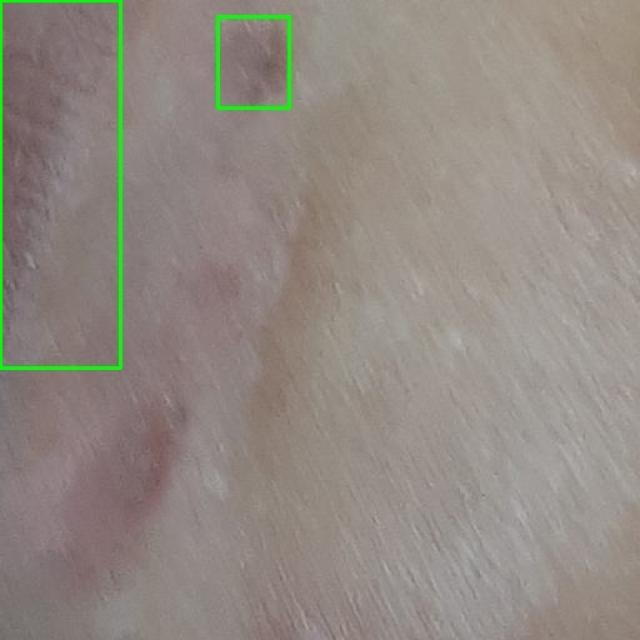Eczema: (0, 0, 120, 368), (218, 16, 289, 108)
